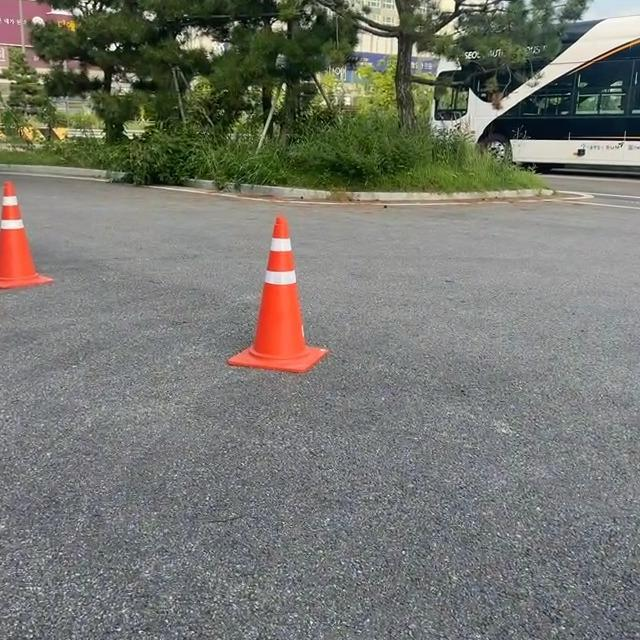fallen_object: (140, 205, 363, 391), (0, 142, 107, 327)
